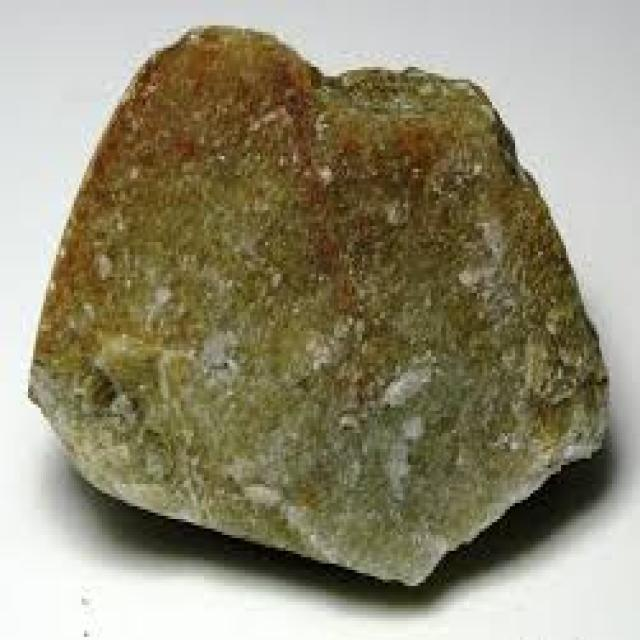Metamorphic: (18, 19, 614, 592)
